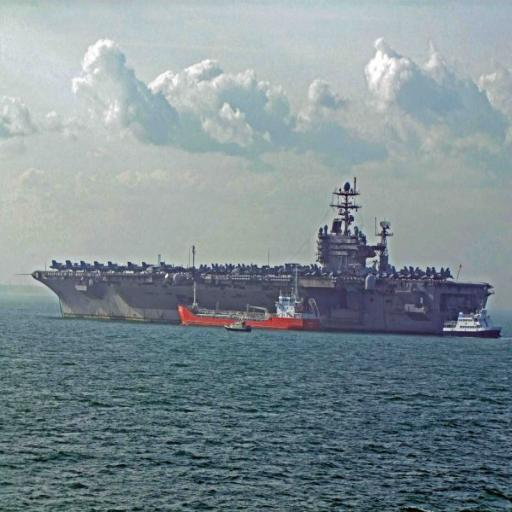Portanaves: (25, 172, 496, 331)
